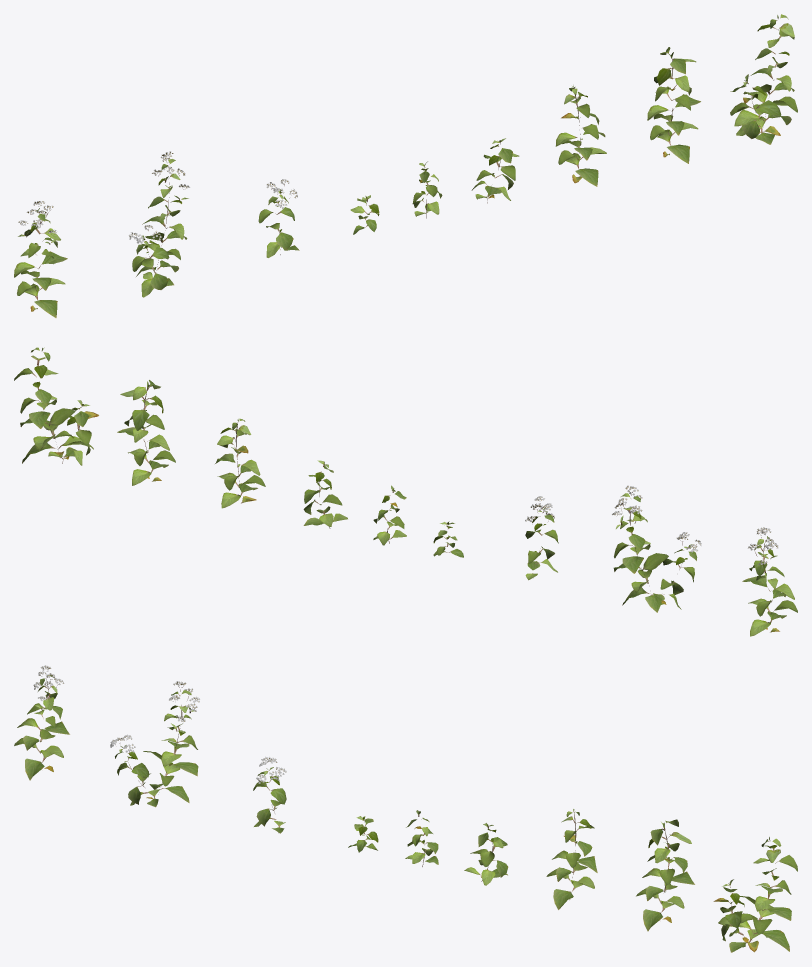
Rendered from shrub_01.glb.
The picture shows the model from 3 angles, top to bottom: view 1: azimuth 30°, elevation 25°; view 2: azimuth 150°, elevation 25°; view 3: azimuth 330°, elevation 25°; orthographic projection. The views are drawn at different scales.
Visible parts, largest first — view 1: shrub_01_a; view 2: shrub_01_a; view 3: shrub_01_a.
Part boxes in pixels (left/top/right/bottom): shrub_01_a: left=14, top=14, right=797, bottom=317; shrub_01_a: left=14, top=347, right=797, bottom=636; shrub_01_a: left=14, top=665, right=797, bottom=952.
Bounding box in the file's own units: 2.59 × 0.3957 × 0.2194.
1 material, 1 textured.
